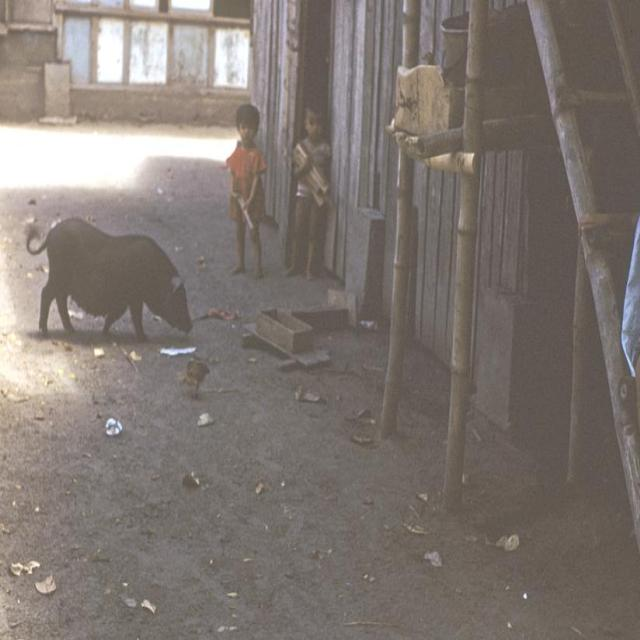pig: (26, 218, 192, 340)
